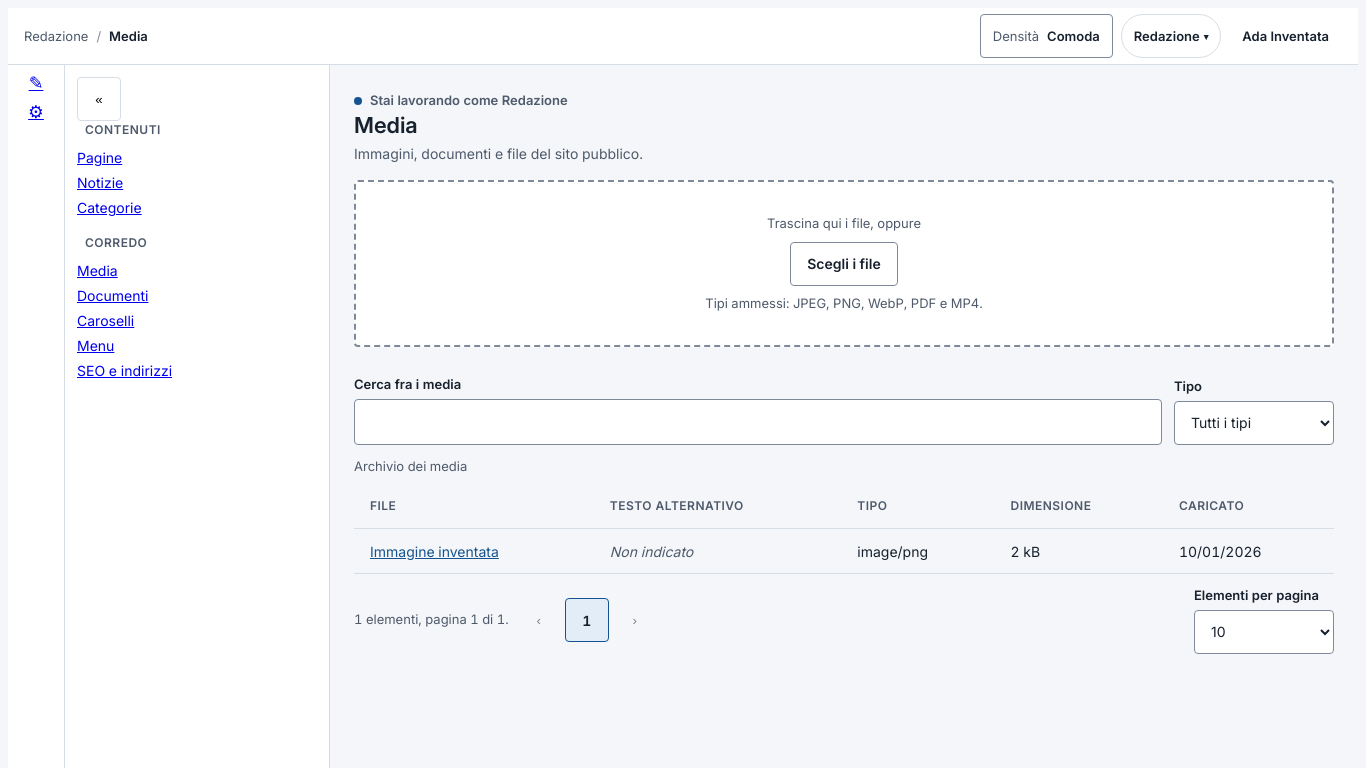
Test case: W8-19 e W8-25: Media › W8-19: dopo «Elimina definitivamente» compare «File eliminato.» (DR-316)
Click the button "Immagine inventata".
click(434, 551)  # box [370,541,499,562]
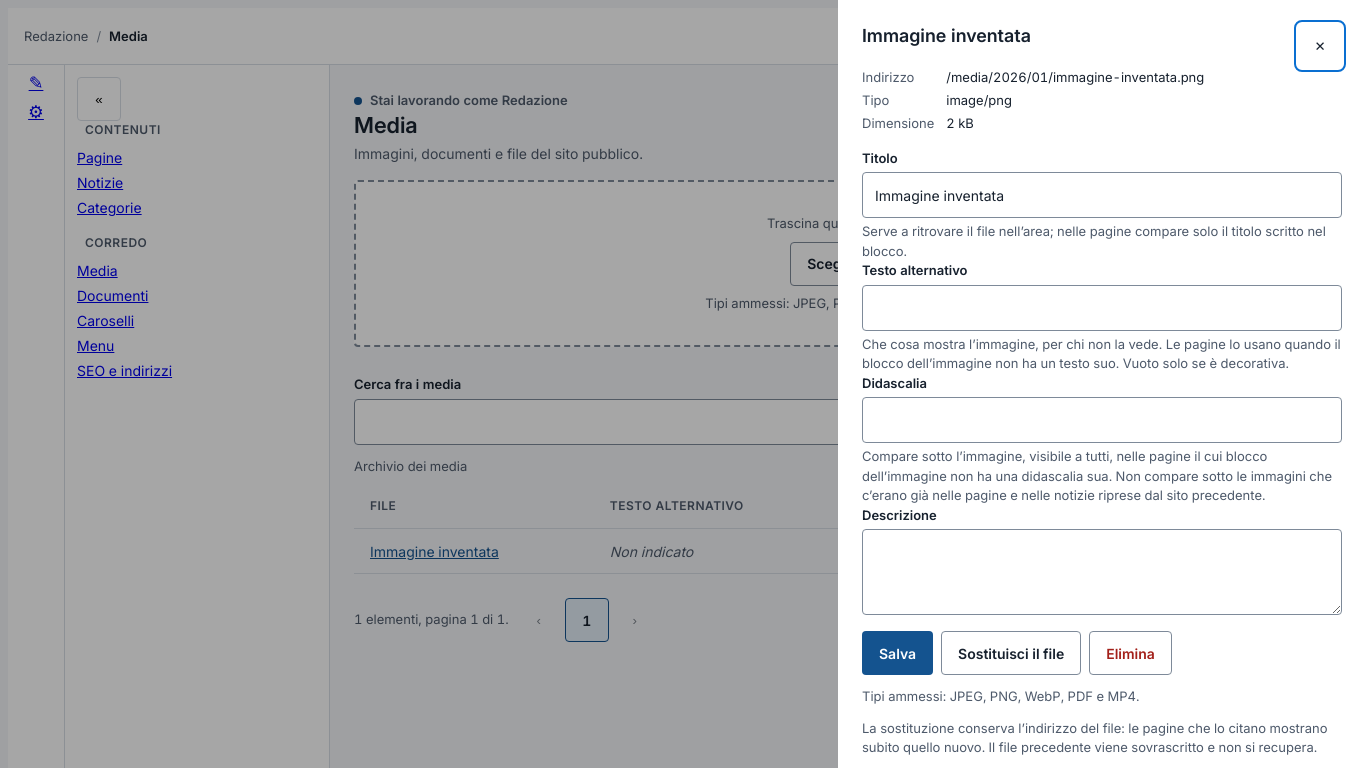
Click the button "Elimina".
click(1131, 653)  # box [1089,631,1172,675]
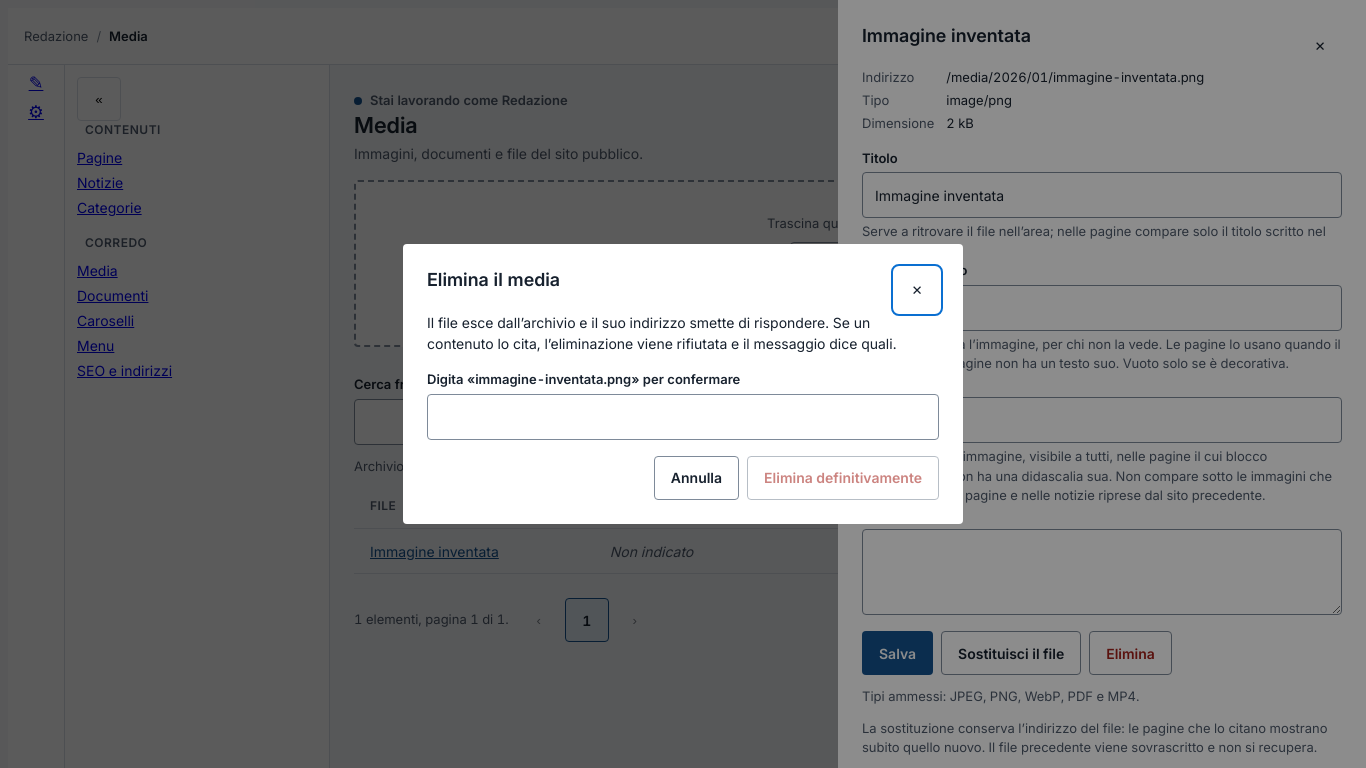
Type "immagine-inventata.png" into the field labelled "Digita «immagine-inventata.png» per confermare".
click(683, 417); type("immagine-inventata.png")  # box [427,394,939,440]
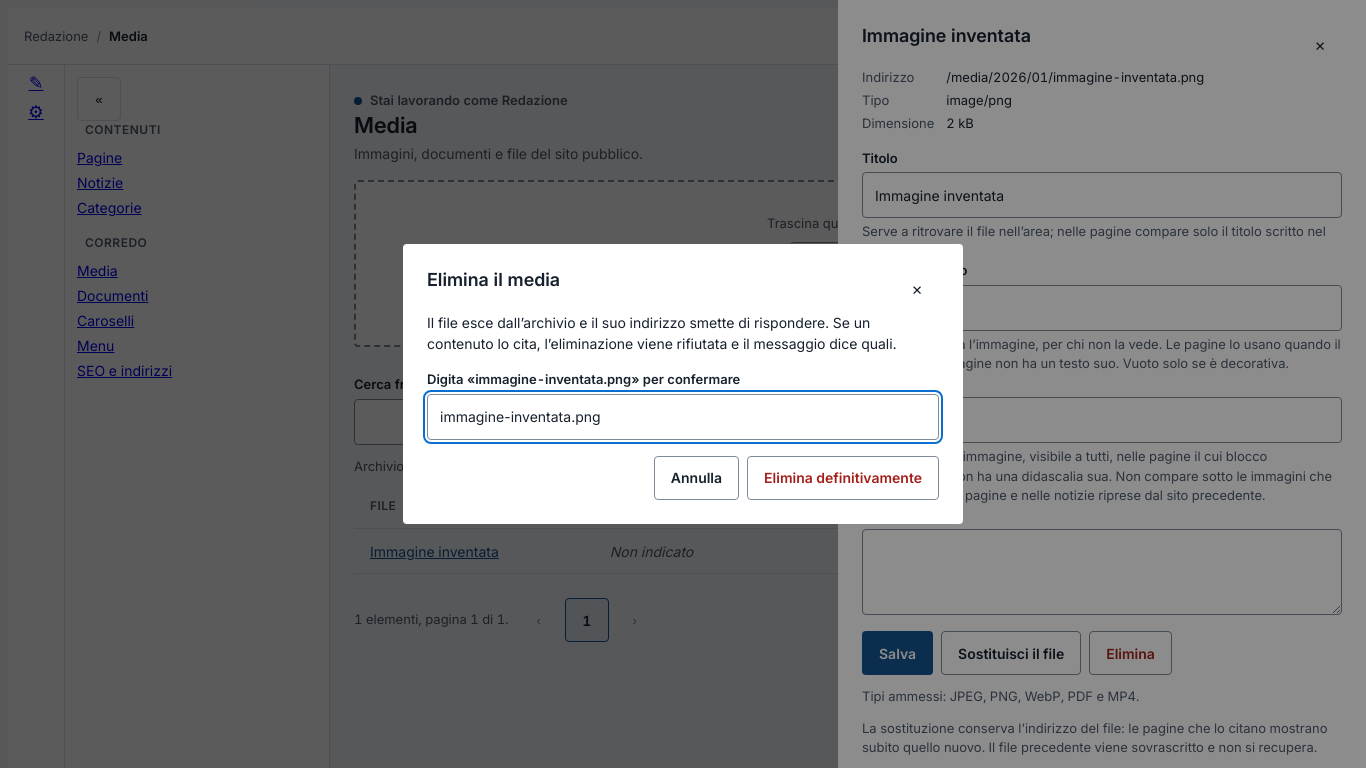
Click the button "Elimina definitivamente".
click(843, 478)  # box [747,456,939,500]
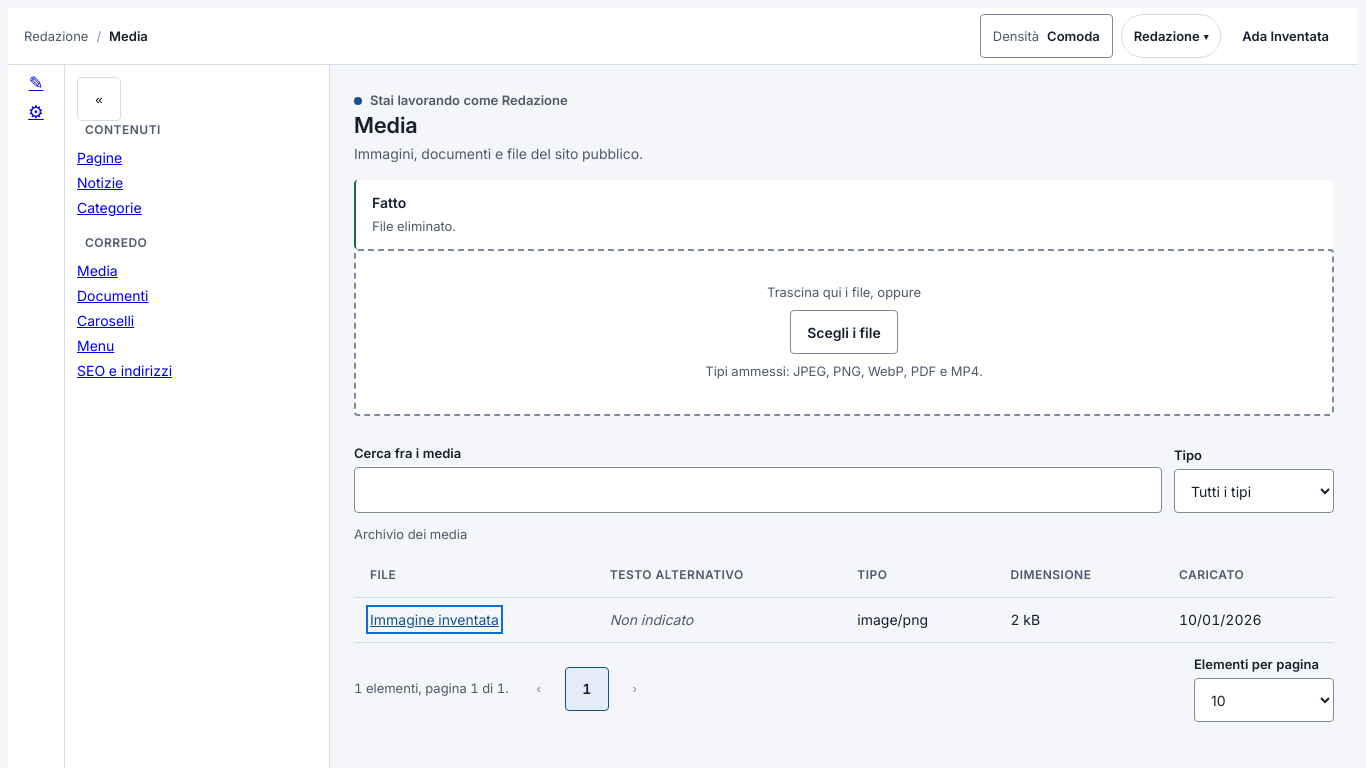
Now the text "File eliminato." is shown, box [372,218,456,234]
Now the text "Fatto" is shown, box [372,194,406,211]
